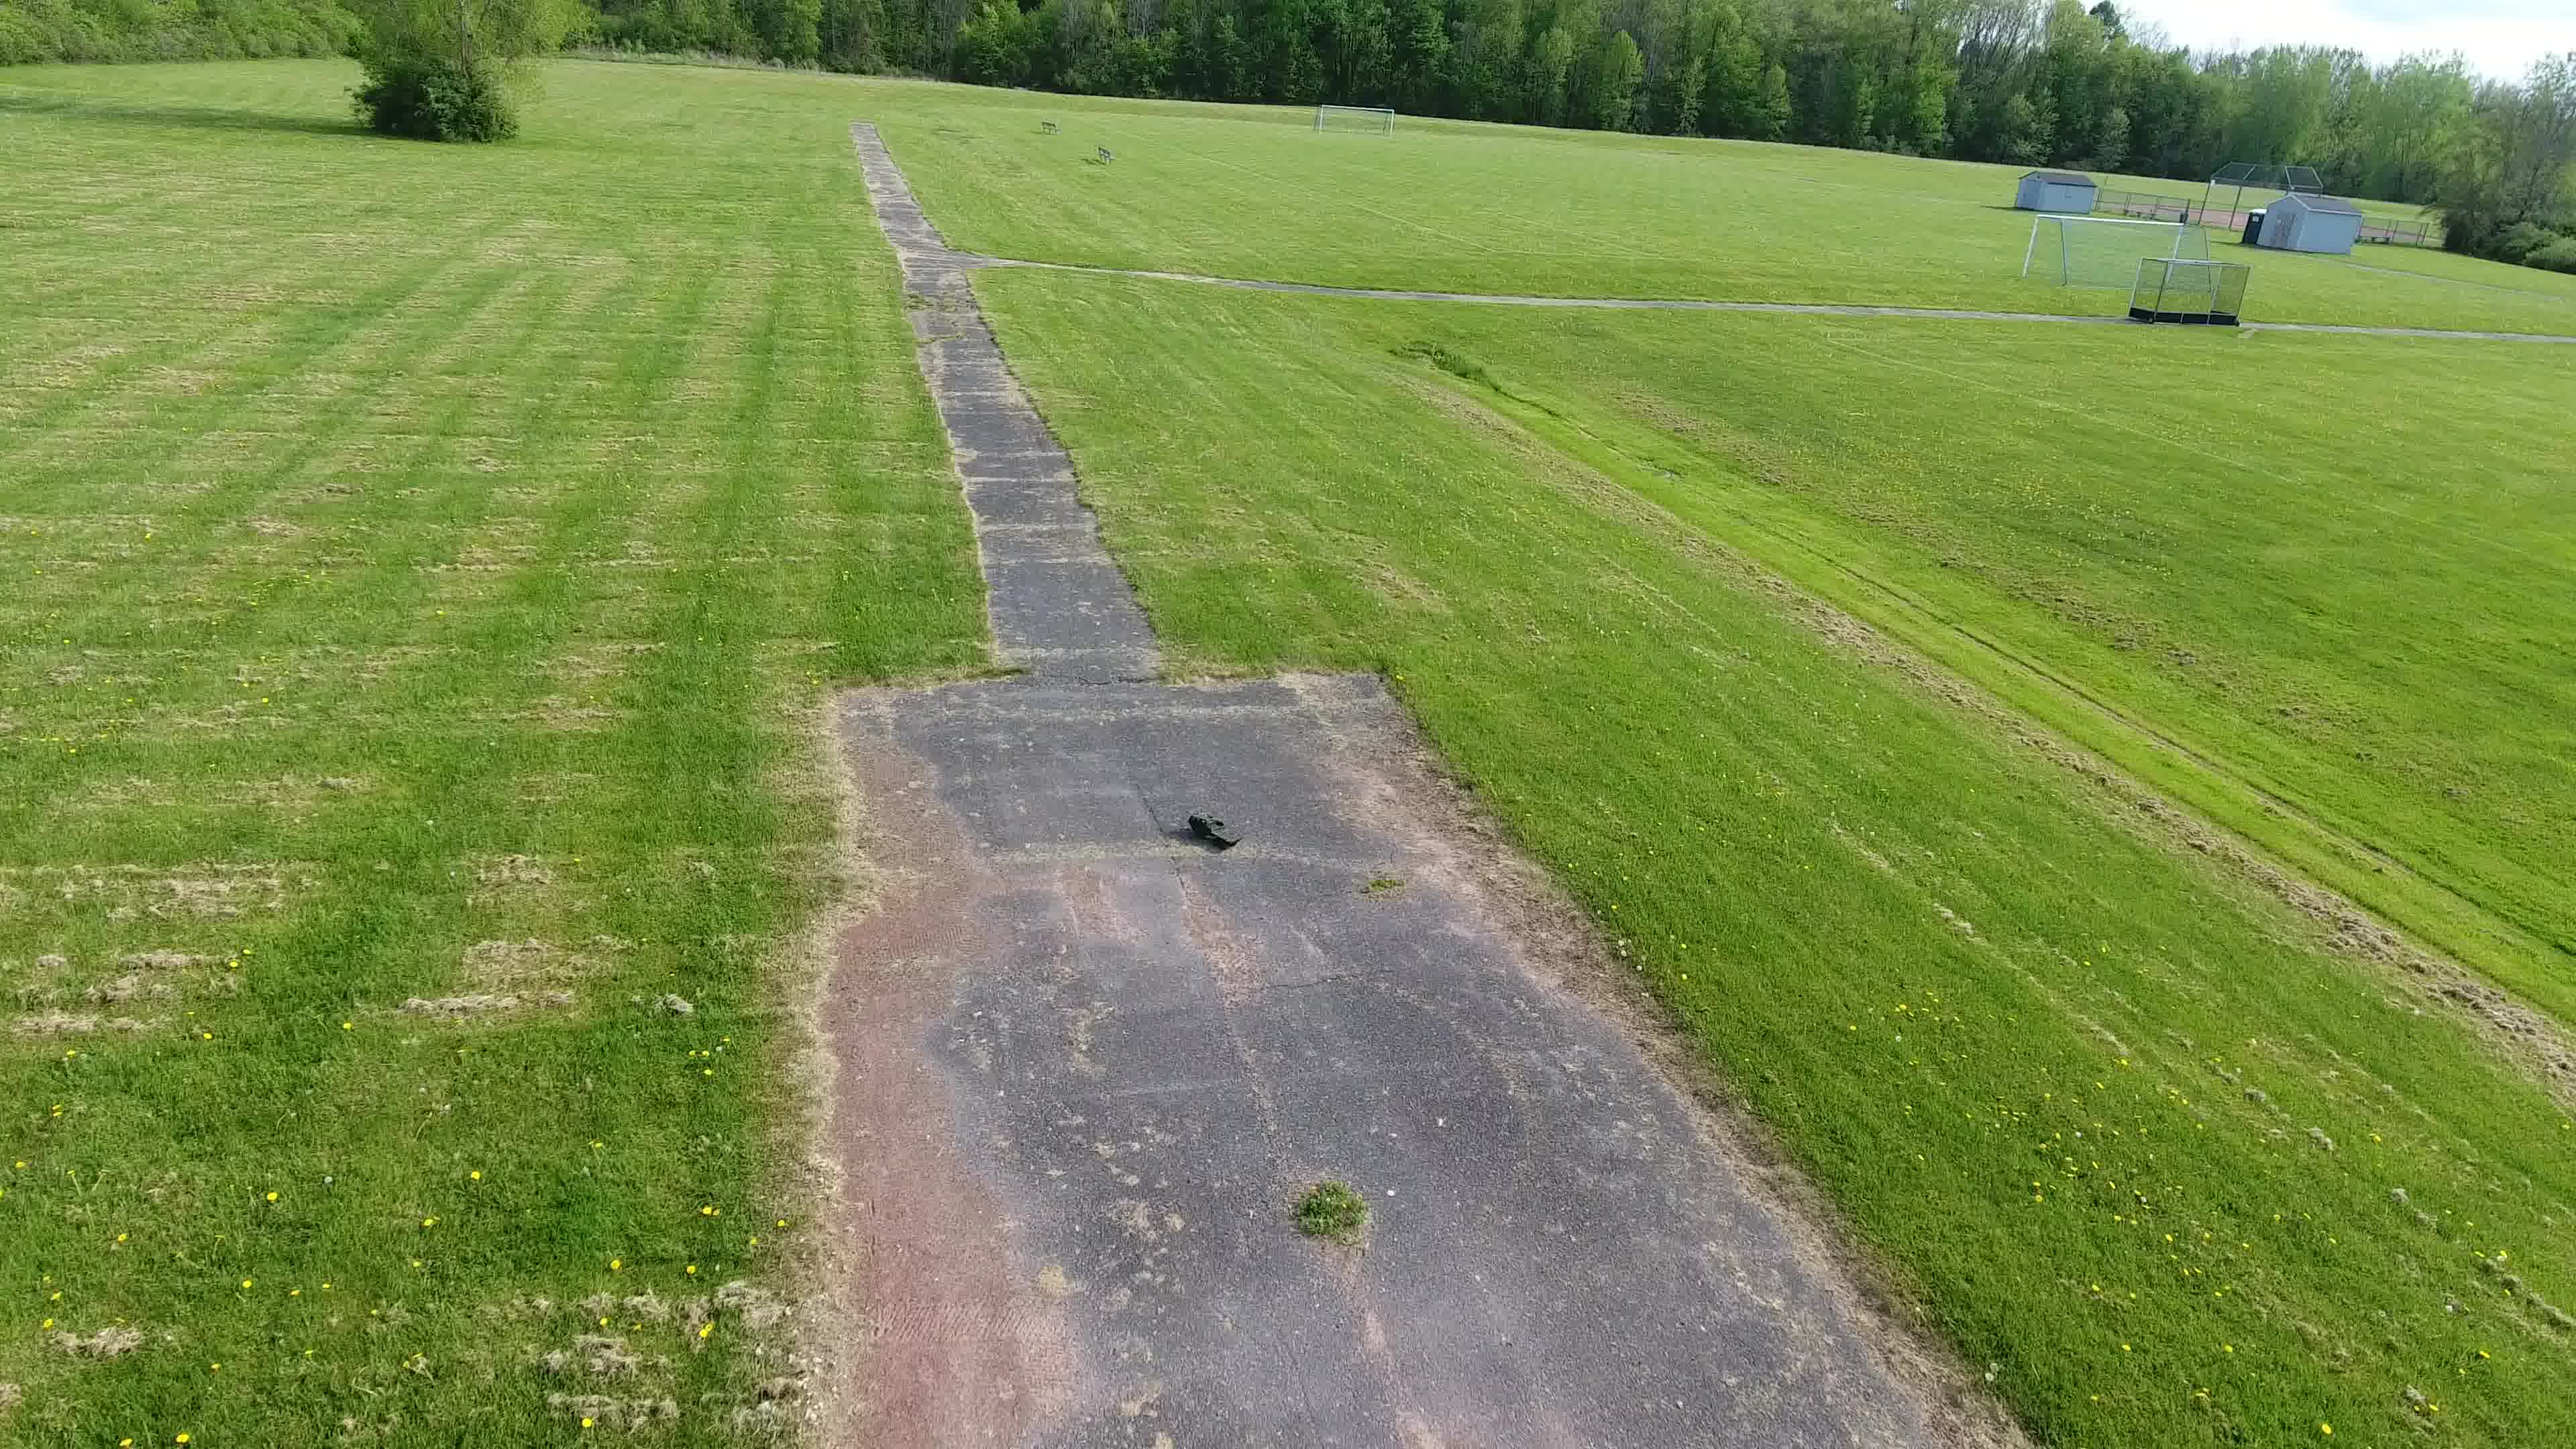transporter9: (1185, 810, 1244, 851)
